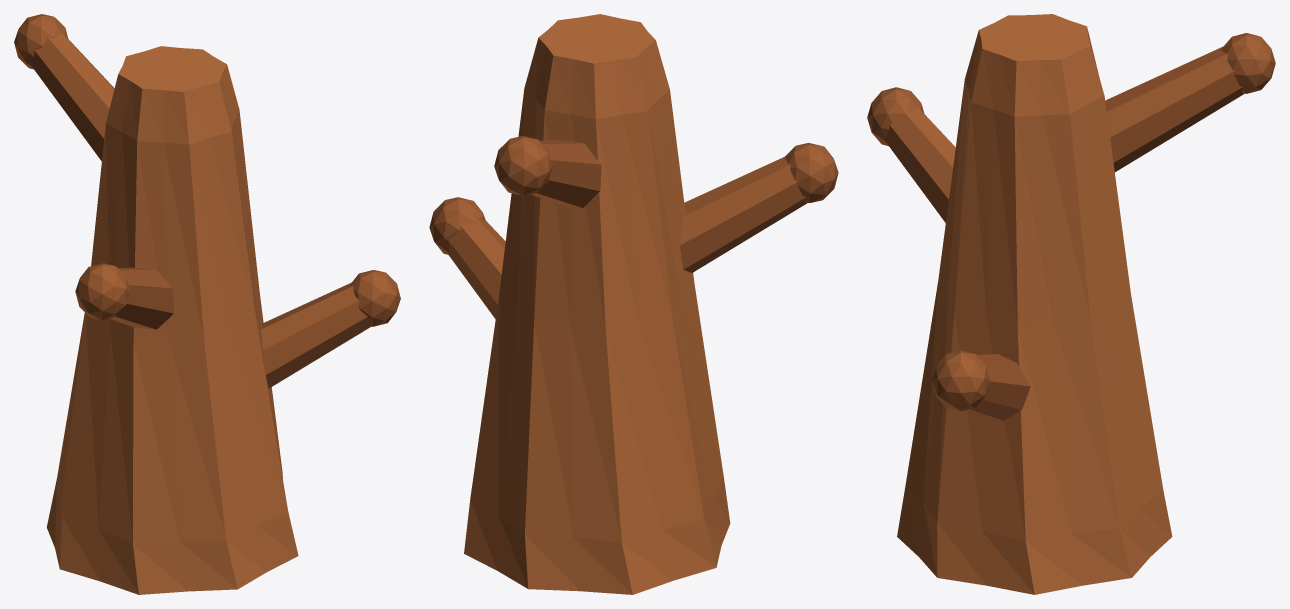
The model's file is PineTrunk.obj.
3 views of the same model, side by side, from view 1: azimuth 30°, elevation 25°; view 2: azimuth 150°, elevation 25°; view 3: azimuth 270°, elevation 25° (orthographic). The views are drawn at different scales.
Visible parts, largest first — view 1: PineTrunk_PineBark, PineTrunk_PineStubs; view 2: PineTrunk_PineBark, PineTrunk_PineStubs; view 3: PineTrunk_PineBark, PineTrunk_PineStubs.
Boxes of the visible parts, box(x1,y1,x2,y2) form: PineTrunk_PineBark: box(46, 46, 298, 594); PineTrunk_PineStubs: box(14, 14, 400, 388); PineTrunk_PineBark: box(464, 14, 730, 594); PineTrunk_PineStubs: box(429, 136, 838, 318); PineTrunk_PineBark: box(897, 14, 1172, 594); PineTrunk_PineStubs: box(867, 33, 1275, 420).
Bounding box in the file's own units: 2.32 × 3 × 2.23.
